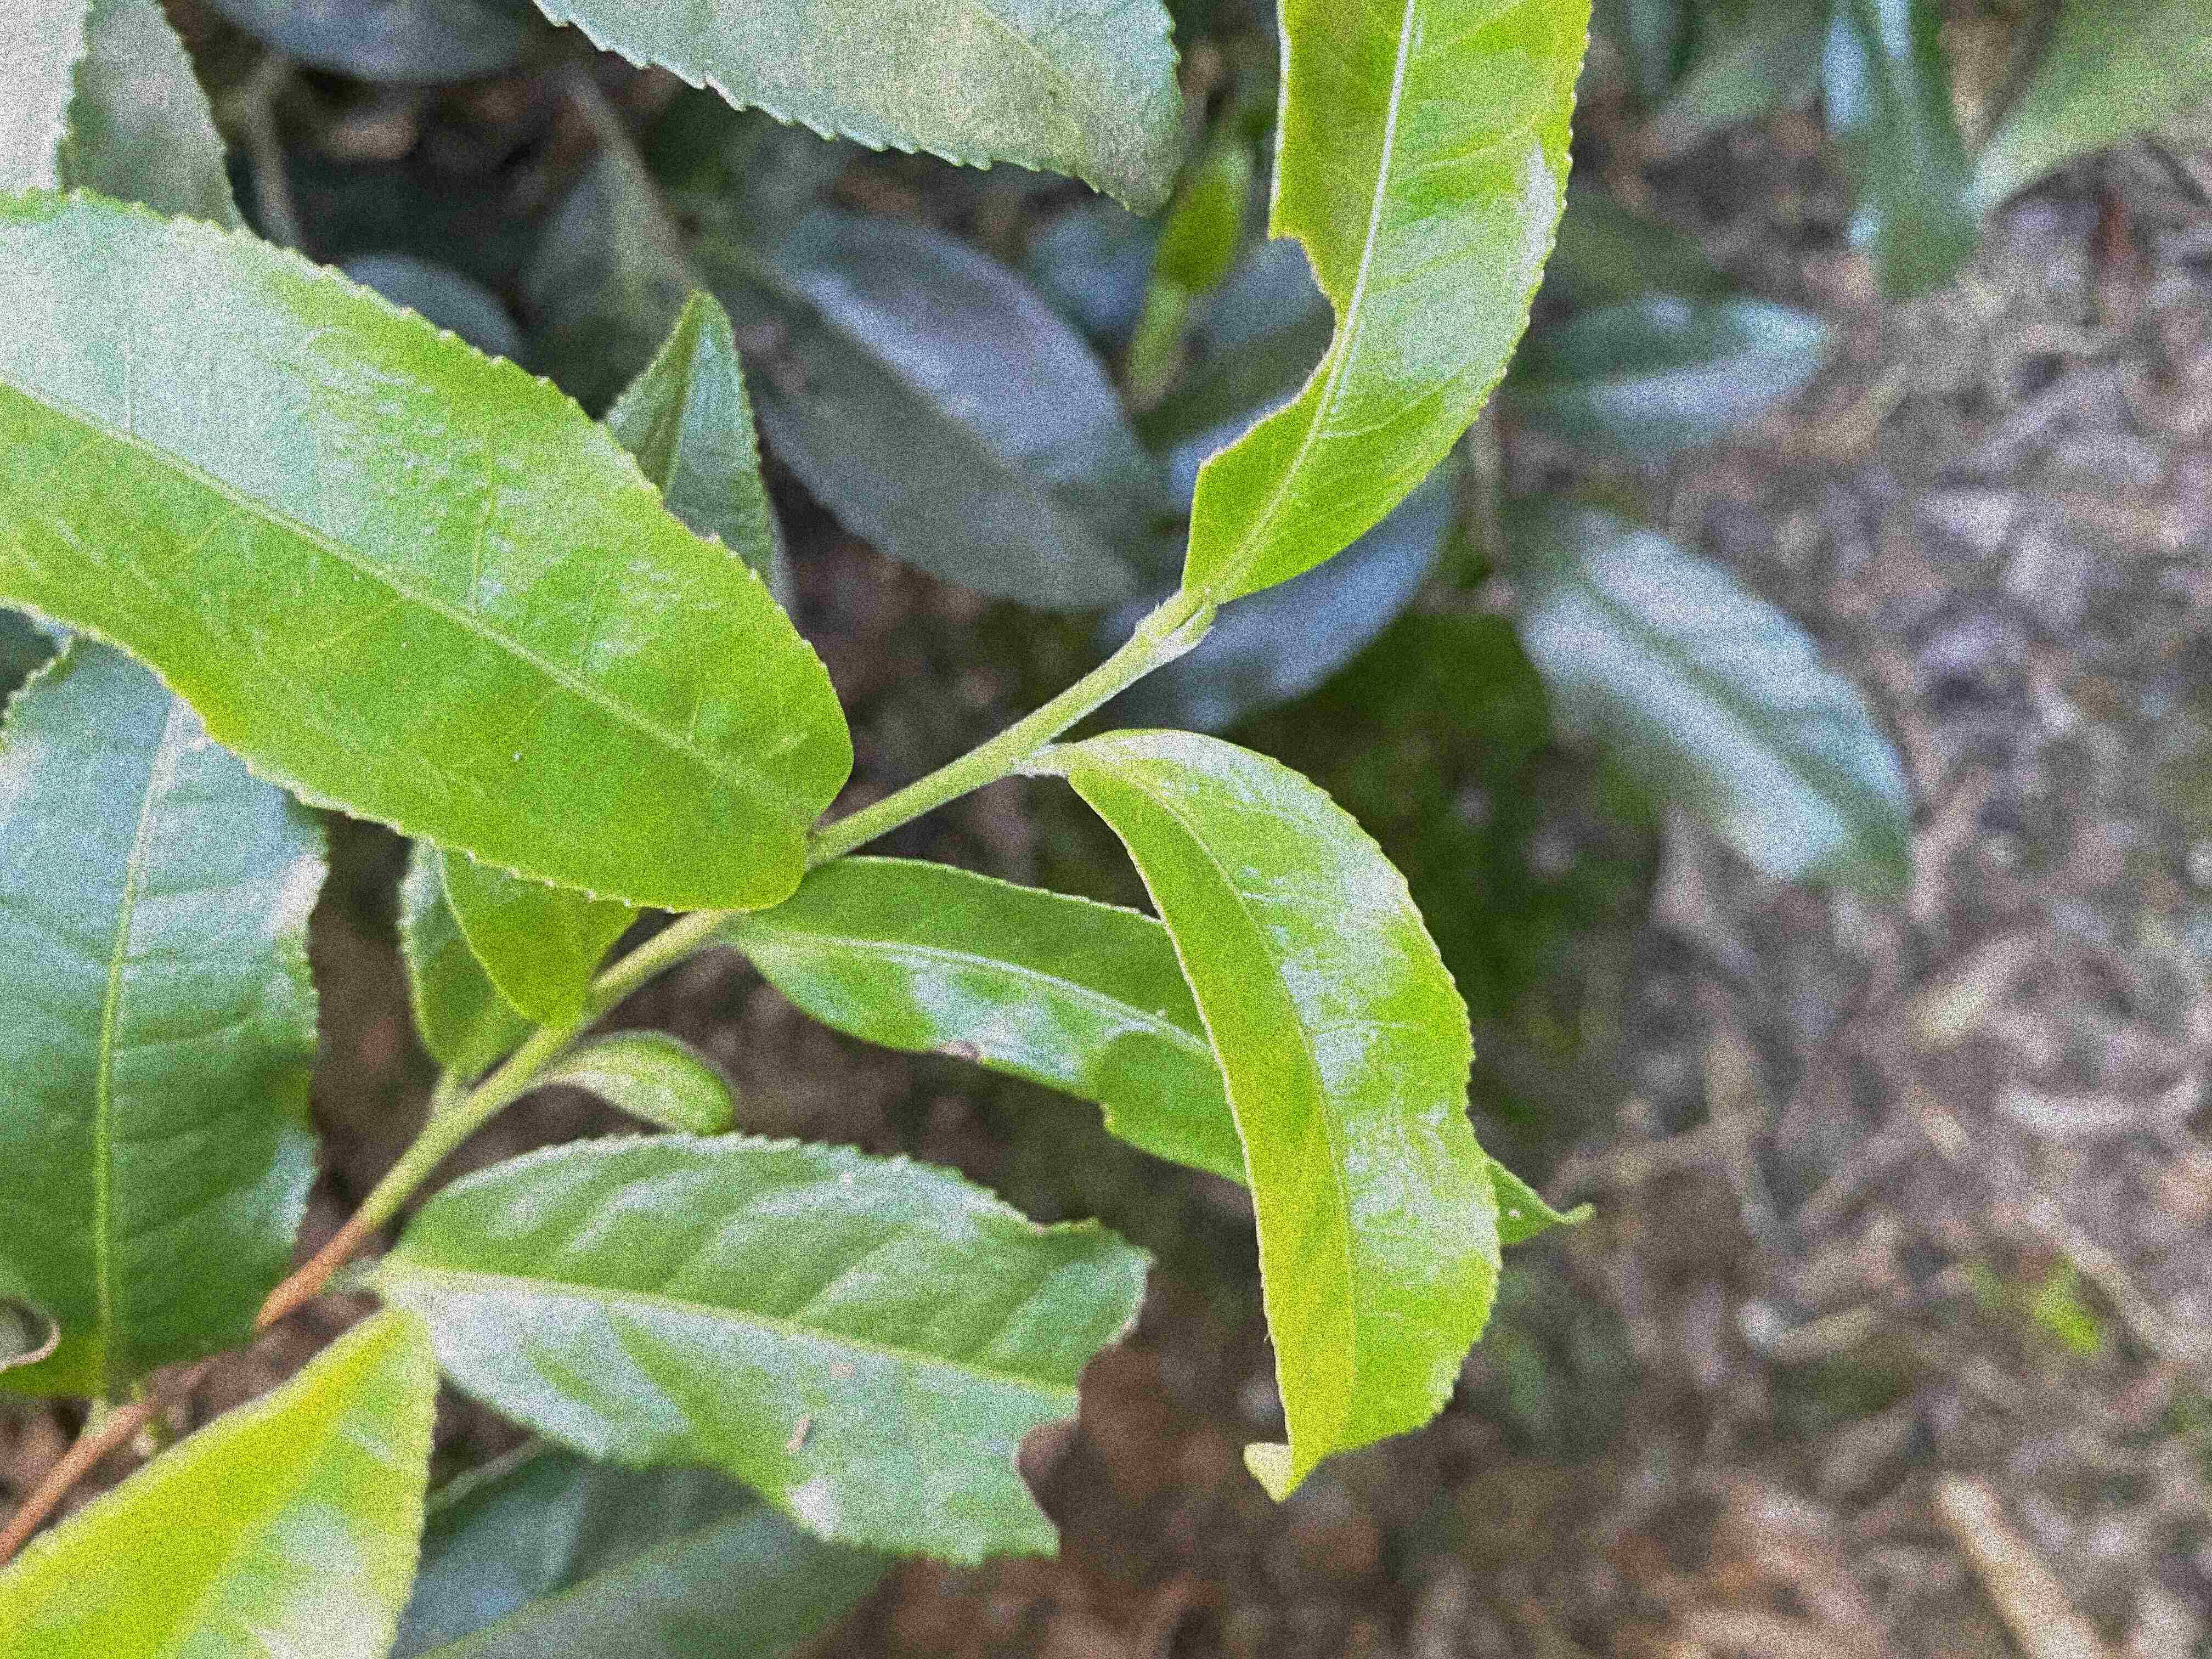chihuo_high: (388, 1124, 1158, 1568)
chihuo_low: (0, 633, 336, 1401), (1179, 0, 1594, 603)
healthy: (3, 188, 855, 910), (1069, 728, 1507, 1507)
tanju_low: (742, 852, 1601, 1246)
